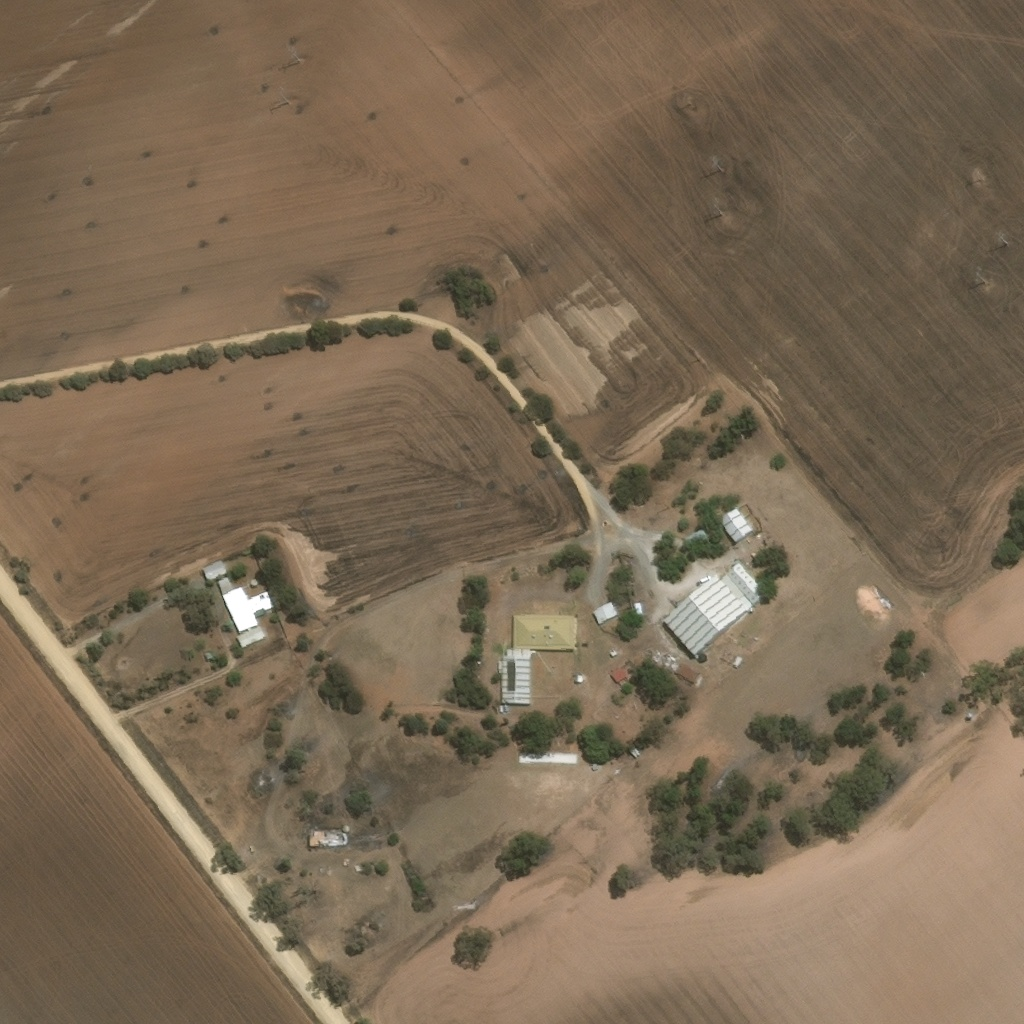0 no-damage: (664, 572, 753, 655), (514, 613, 576, 649), (727, 560, 768, 604), (502, 648, 534, 703), (718, 505, 754, 543), (519, 751, 577, 765), (592, 601, 618, 624), (675, 665, 699, 684), (610, 667, 627, 683), (729, 655, 742, 670), (575, 674, 584, 683), (610, 649, 617, 657), (592, 765, 598, 771)
2 major-damage: (217, 576, 276, 633), (237, 625, 266, 648), (308, 832, 344, 847), (203, 560, 228, 580), (250, 579, 259, 587)
